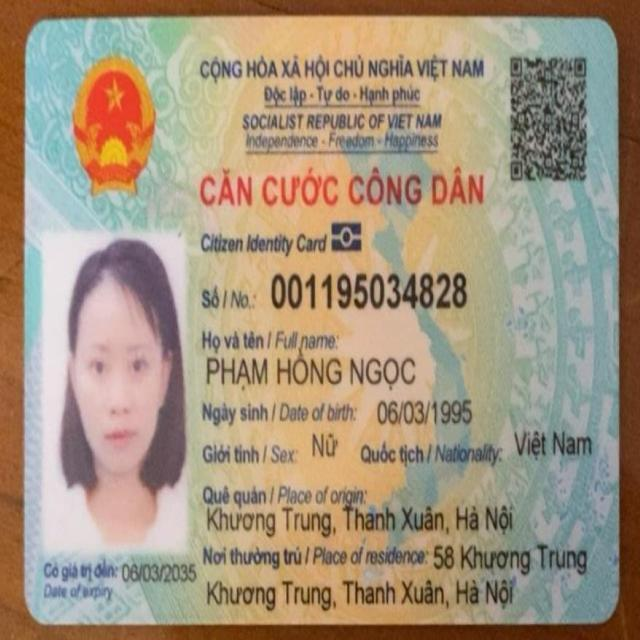current_place: (205, 568, 521, 612), (429, 533, 592, 577)
dob: (374, 394, 472, 428)
expire_date: (119, 556, 199, 588)
gender: (307, 429, 343, 465)
id: (267, 271, 469, 310)
name: (203, 350, 420, 391)
nationality: (511, 424, 596, 461)
origin_place: (202, 503, 516, 538)
